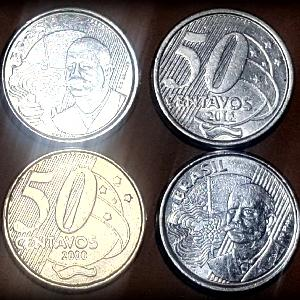50 cent: (149, 6, 292, 150), (5, 149, 145, 292), (3, 2, 144, 143), (155, 153, 294, 295)
